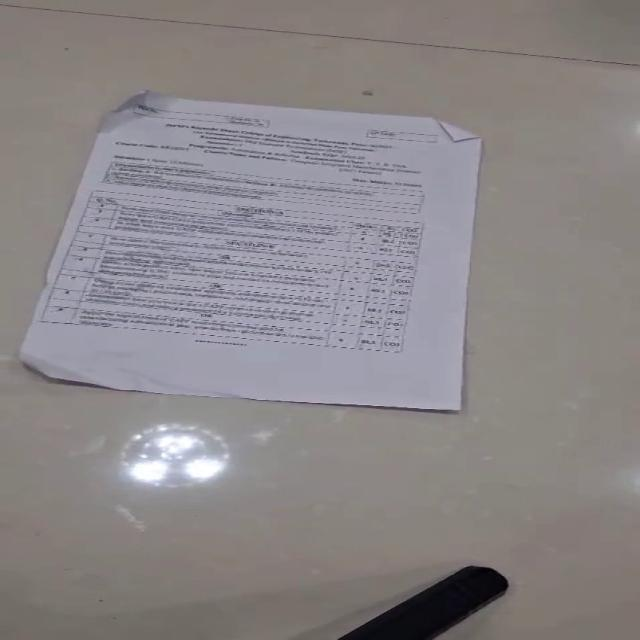paper: (17, 89, 482, 411)
